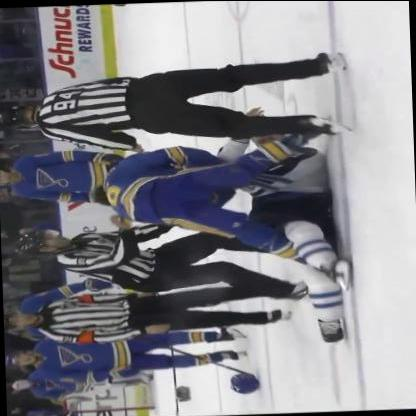non-Voilence: (4, 54, 350, 146), (6, 282, 279, 344), (5, 326, 240, 382)
voilence: (92, 138, 326, 250)
